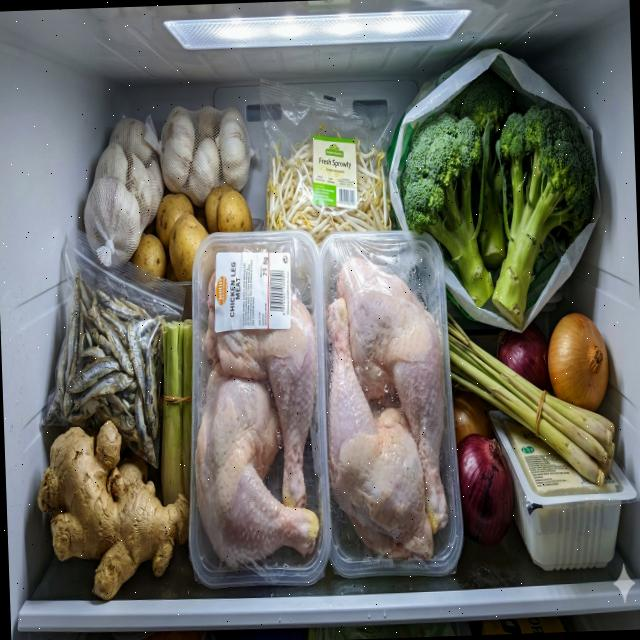anchovies: (38, 262, 170, 468)
bean_sprouts: (261, 120, 393, 252)
brocolli: (396, 66, 602, 331)
chicken: (321, 252, 451, 561), (188, 266, 320, 570)
garlic: (79, 102, 253, 268)
ginger: (34, 416, 194, 602)
lemongrass: (446, 304, 616, 493)
onion: (455, 431, 516, 546), (546, 310, 610, 414), (493, 323, 553, 396)
potato: (129, 184, 254, 284)
tofu: (504, 414, 618, 496)
